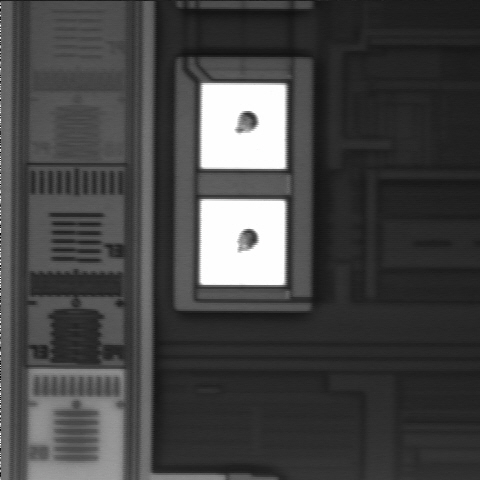pad: (201, 83, 286, 169), (200, 199, 285, 285)
